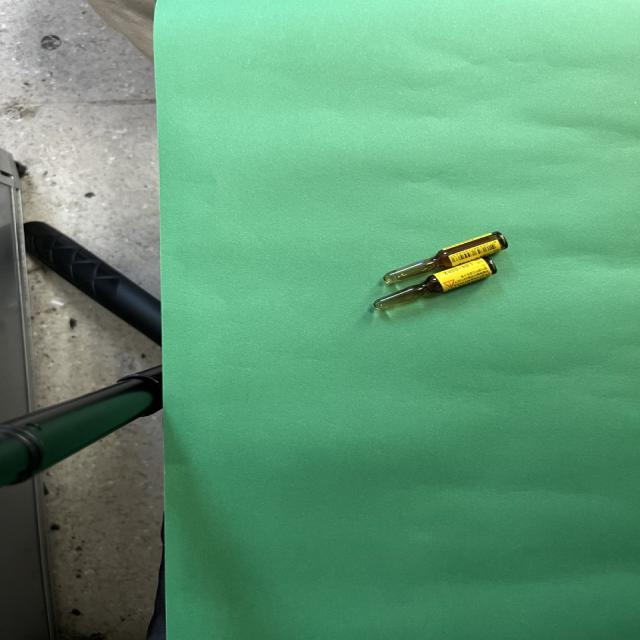Ampoules: (373, 256, 497, 310), (383, 232, 508, 284)
